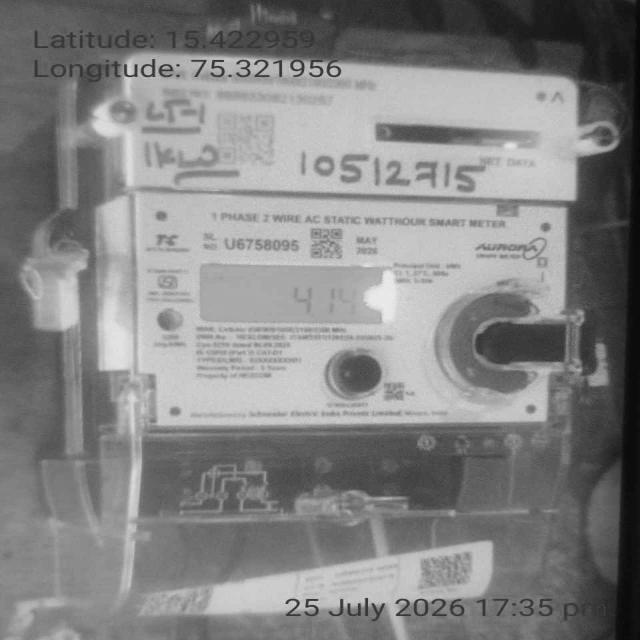meter: (118, 50, 575, 428)
